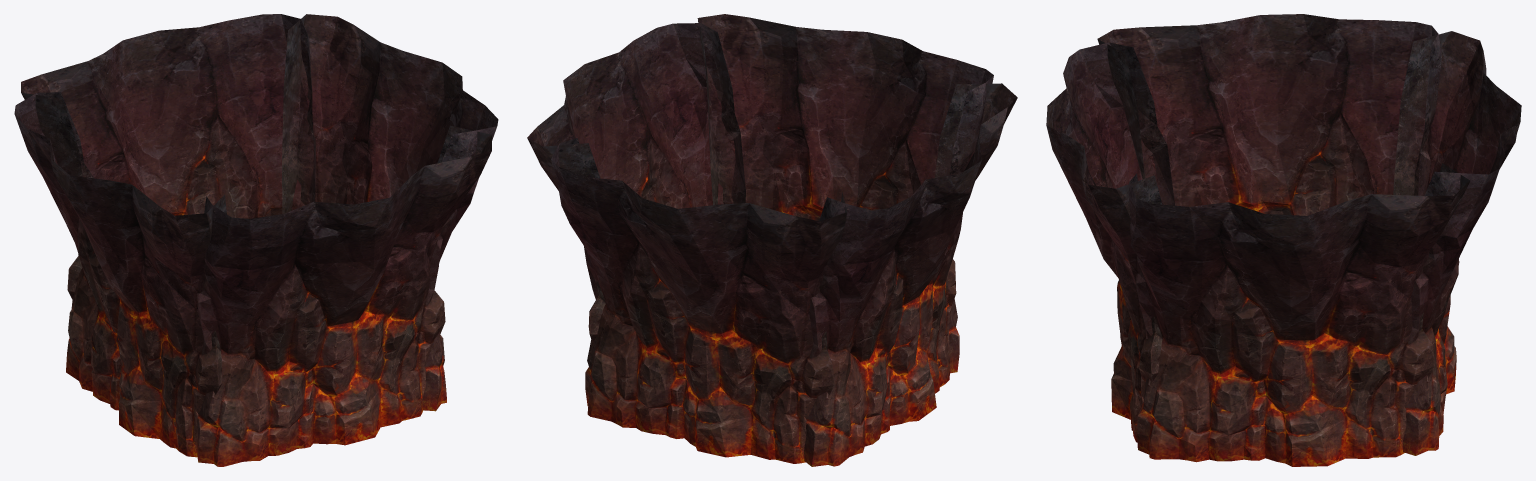
The model's file is JJC02.FBX.
The picture shows the model from 3 angles, left to right: view 1: azimuth 30°, elevation 25°; view 2: azimuth 150°, elevation 25°; view 3: azimuth 270°, elevation 25°; orthographic projection. The views are drawn at different scales.
Visible parts, largest first — view 1: JJC02; view 2: JJC02; view 3: JJC02.
Boxes of the visible parts, x1,y1,x2,y2 form: JJC02: (14,14,498,466); JJC02: (527,14,1017,466); JJC02: (1046,14,1521,466).
Size of the model in its own units: 47.57 by 31.73 by 47.57.
